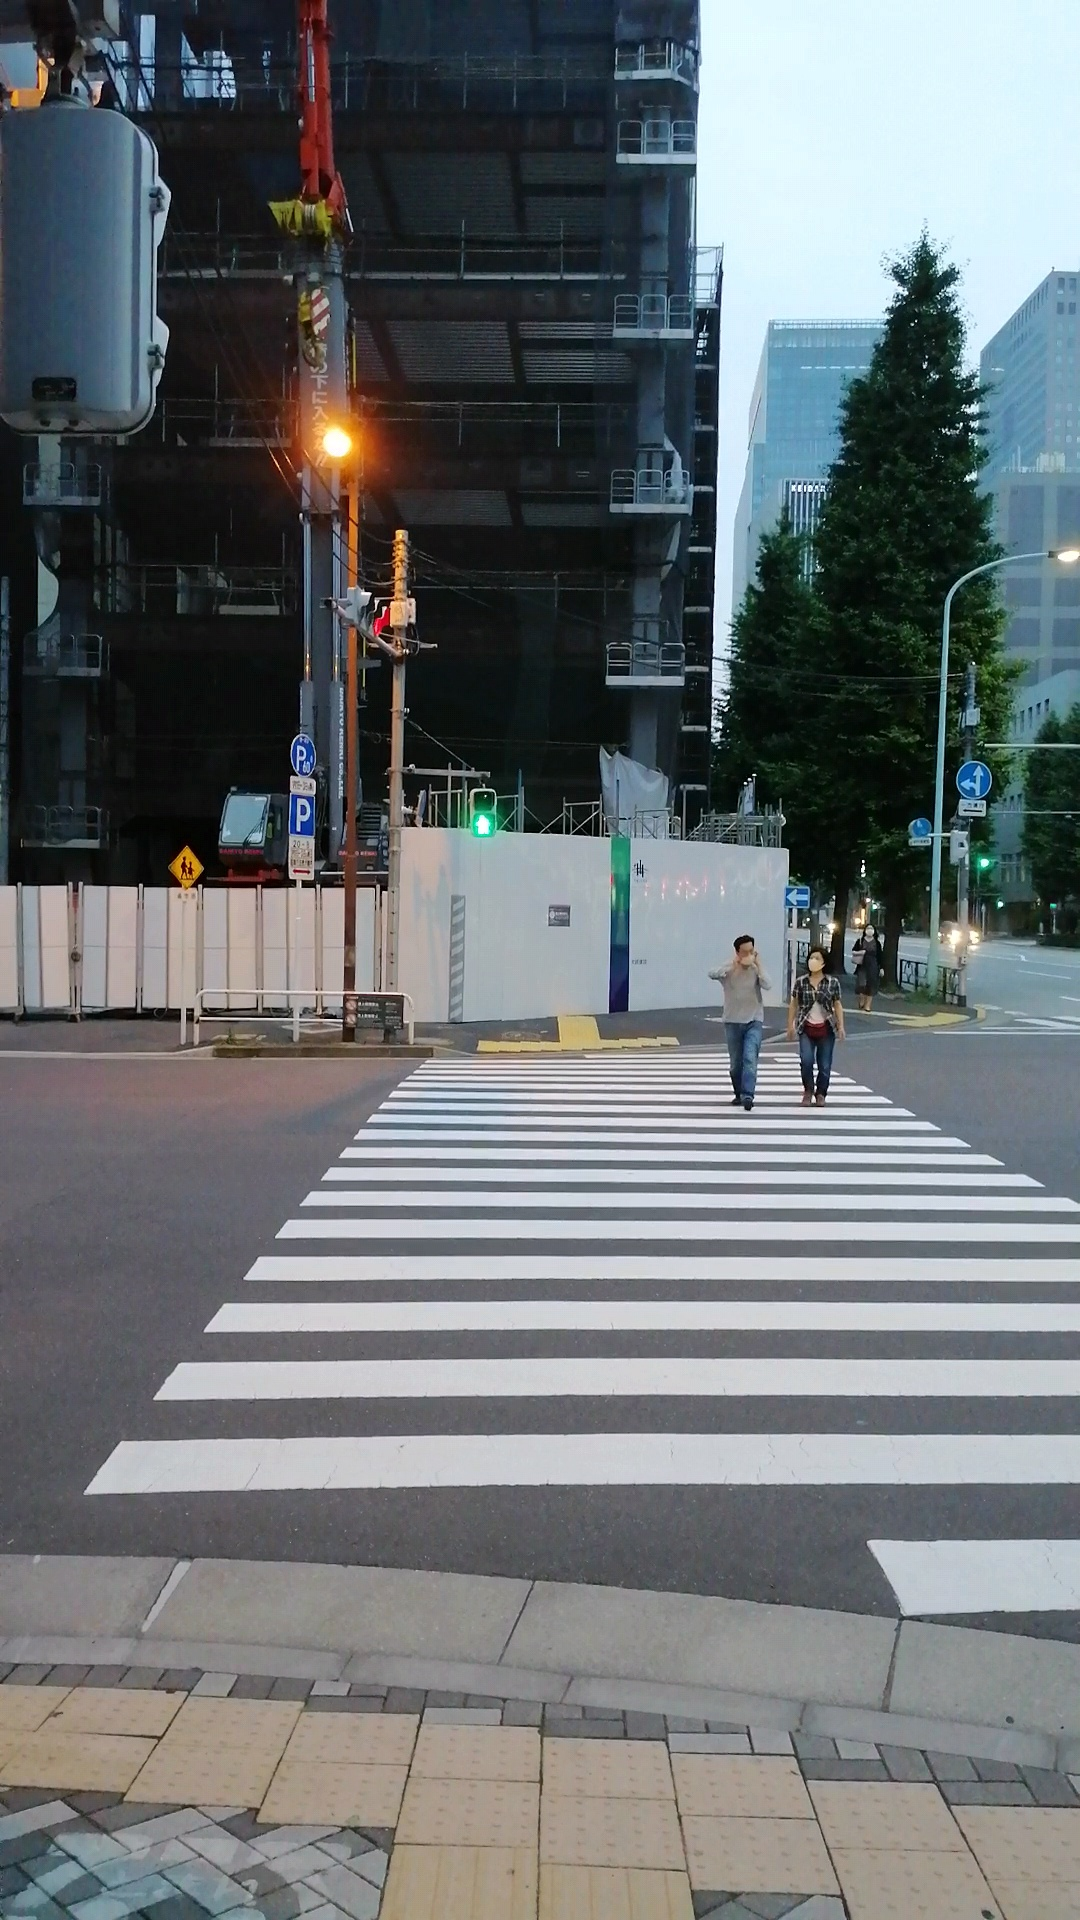green: (465, 787, 498, 840)
